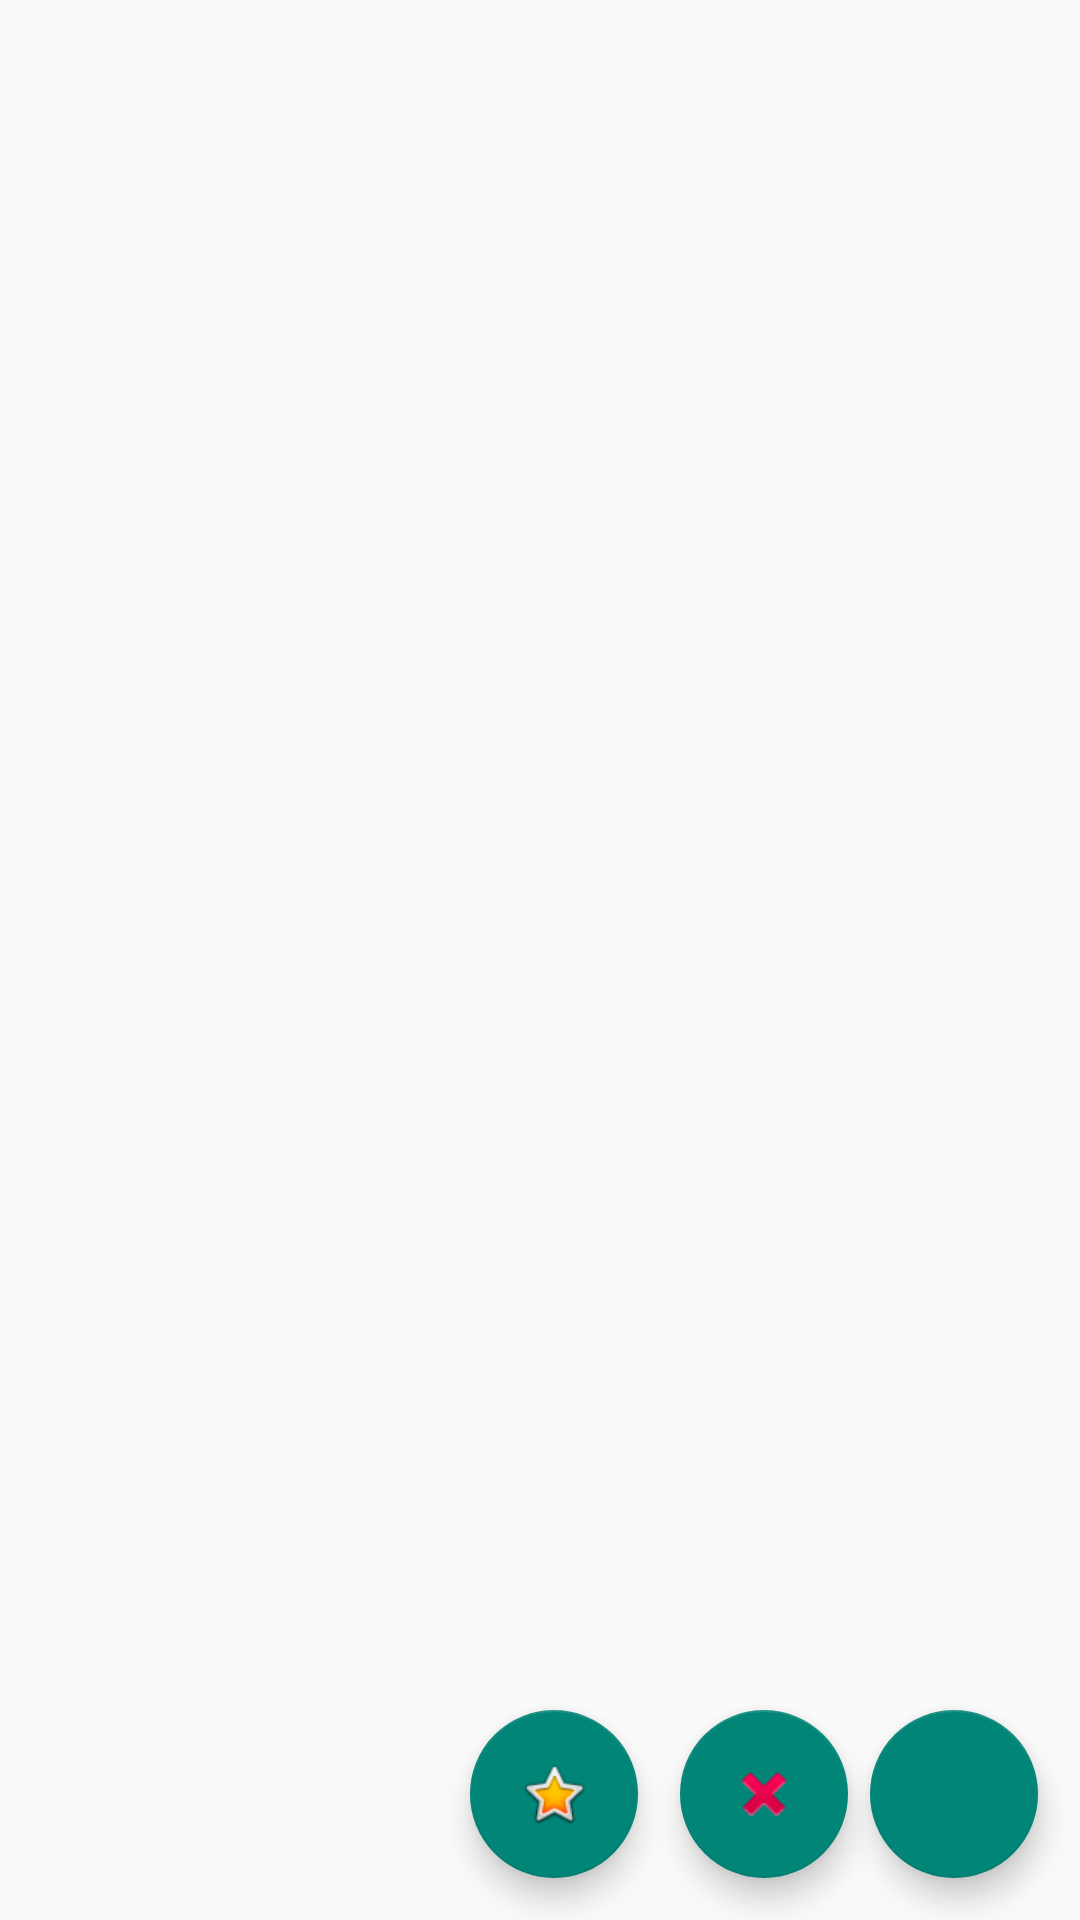

Icon click points for this 1080px×1920px phone screenshot, format [x,y]:
delete: [764,1794]
star on: [554,1794]
